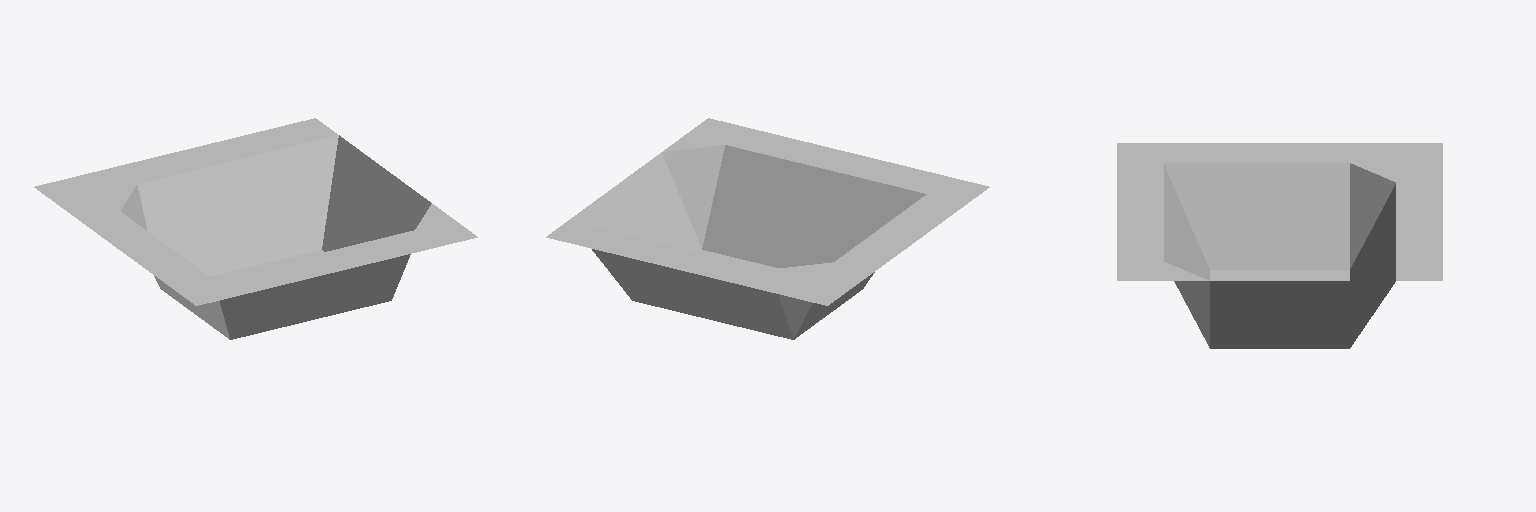
The model's file is sandbox.obj.
3 renders of one model, left to right at view 1: azimuth 30°, elevation 25°; view 2: azimuth 150°, elevation 25°; view 3: azimuth 270°, elevation 25°, orthographic.
Size of the model in its own units: 42.66 by 12.67 by 42.66.